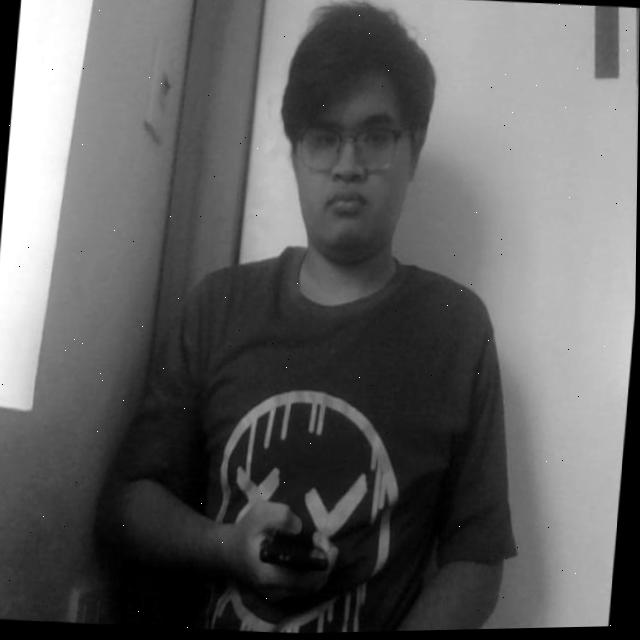phone: (246, 509, 347, 603)
